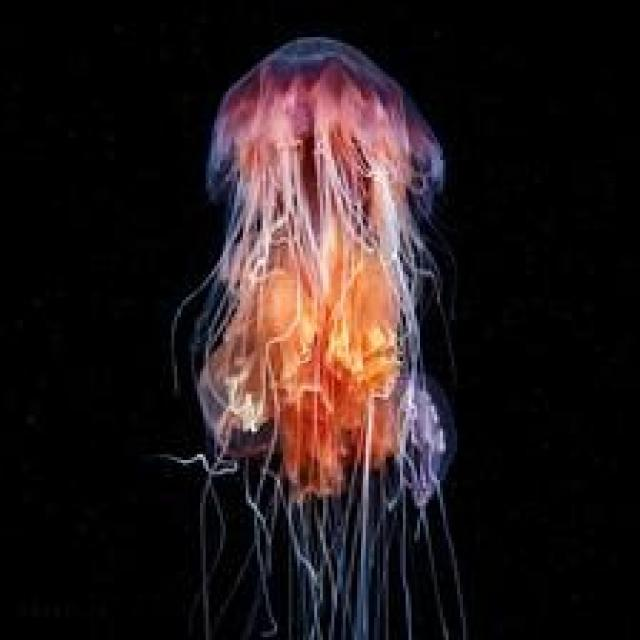Box-jellyfish: (154, 32, 477, 637)
